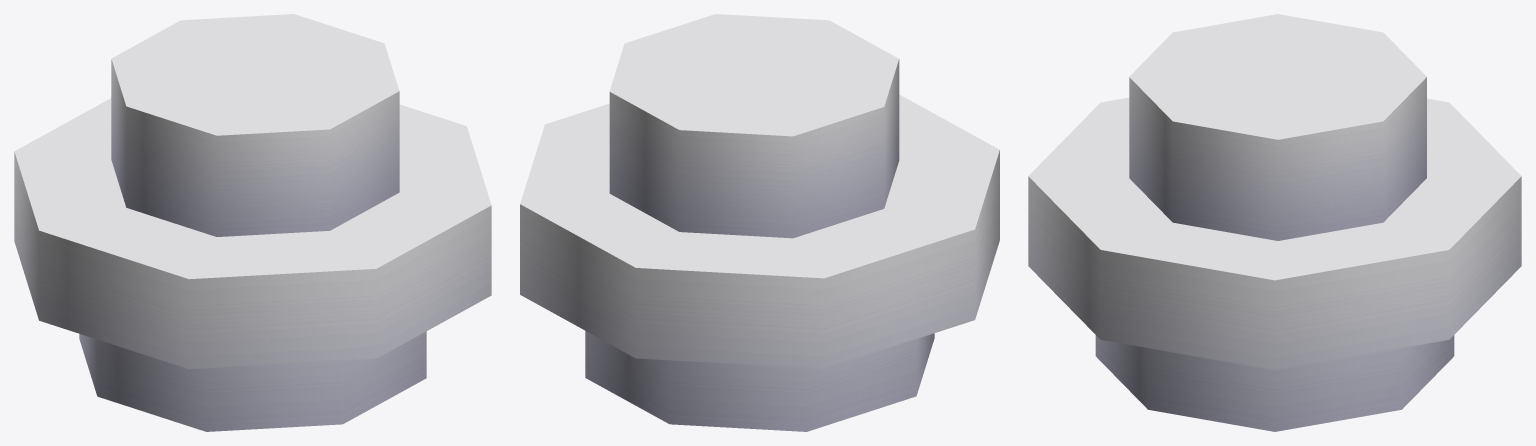
The model's file is brick-kit--bevel-lq-plate-1x1-round.glb.
The picture shows the model from 3 angles, left to right: view 1: azimuth 30°, elevation 25°; view 2: azimuth 150°, elevation 25°; view 3: azimuth 270°, elevation 25°; orthographic projection.
Visible parts, largest first — view 1: bevel-lq-plate-1x1-round; view 2: bevel-lq-plate-1x1-round; view 3: bevel-lq-plate-1x1-round.
Part boxes in pixels (box(x1,y1,x2,y2)): bevel-lq-plate-1x1-round: box(14, 14, 491, 431); bevel-lq-plate-1x1-round: box(520, 14, 999, 431); bevel-lq-plate-1x1-round: box(1028, 14, 1521, 431).
Bounding box in the file's own units: 0.0795 × 0.05 × 0.0795.
Materials: 1 (1 with a texture image).
